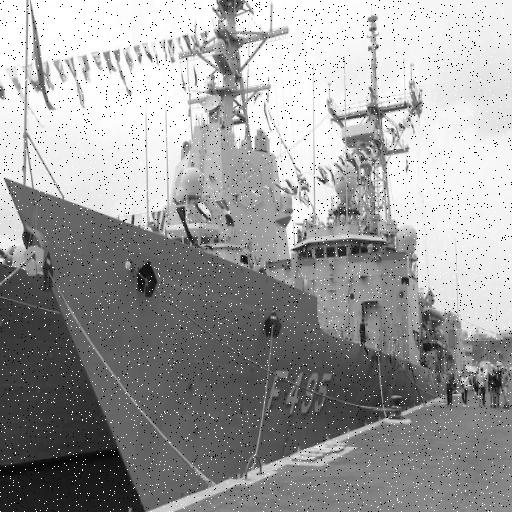Fragata: (1, 1, 459, 489)
